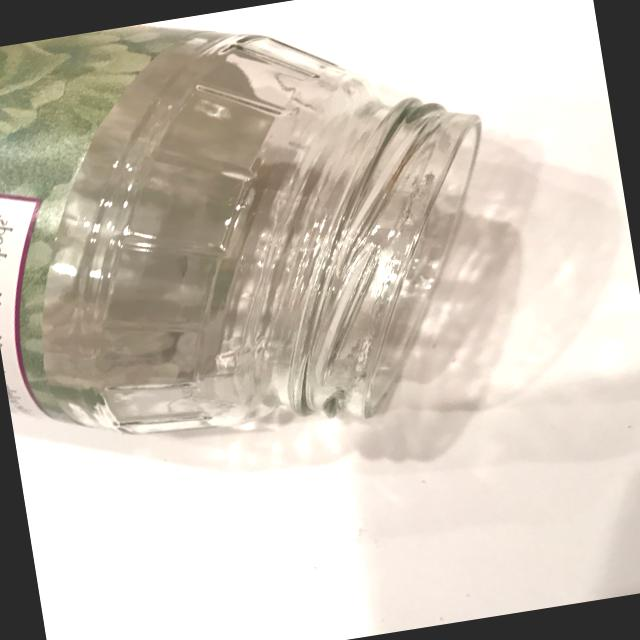Glass: (0, 0, 551, 504)
